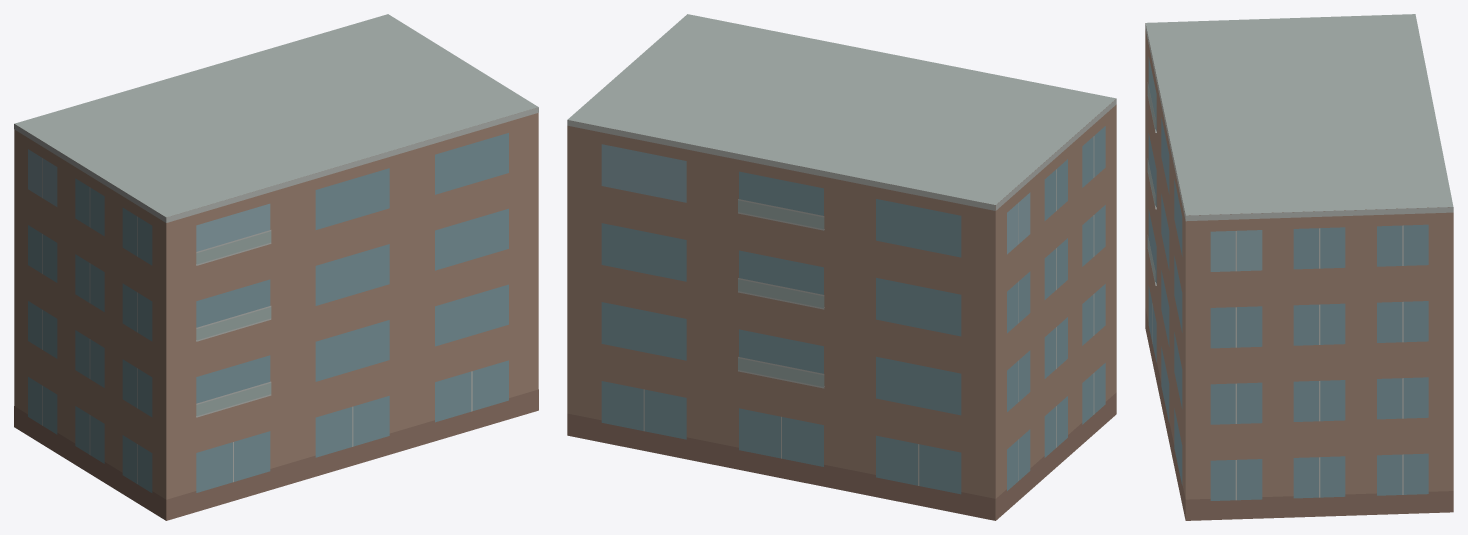
File: survey-upis-32753600.glb
3 views of the same model, side by side, from view 1: azimuth 30°, elevation 25°; view 2: azimuth 150°, elevation 25°; view 3: azimuth 270°, elevation 25° (orthographic). The views are drawn at different scales.
Visible parts, largest first — view 1: survey-upis-32753600.tmp; view 2: survey-upis-32753600.tmp; view 3: survey-upis-32753600.tmp.
Boxes of the visible parts, bbox=[...] form: survey-upis-32753600.tmp: bbox=[14, 14, 538, 520]; survey-upis-32753600.tmp: bbox=[567, 14, 1116, 520]; survey-upis-32753600.tmp: bbox=[1145, 14, 1453, 520].
Bounding box in the file's own units: 18.7 × 13.2 × 12.08.
